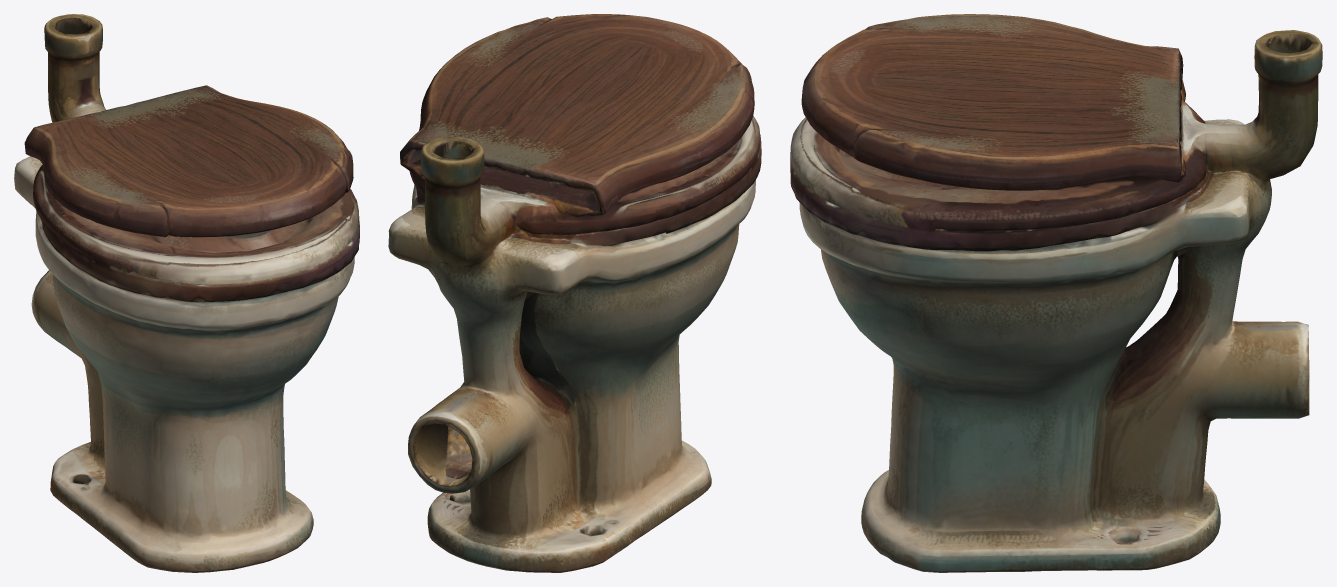
Rendered from Furn_Toilet.fbx.
3 renders of one model, left to right at view 1: azimuth 30°, elevation 25°; view 2: azimuth 150°, elevation 25°; view 3: azimuth 270°, elevation 25°, orthographic. The views are drawn at different scales.
Visible parts, largest first — view 1: texture_mapping; view 2: texture_mapping; view 3: texture_mapping.
Boxes of the visible parts, box(x1,y1,x2,y2) form: texture_mapping: box(14, 14, 359, 572); texture_mapping: box(388, 14, 761, 572); texture_mapping: box(790, 14, 1322, 572).
Bounding box in the file's own units: 0.6801 × 1 × 1.
Materials: 1 (1 with a texture image).
